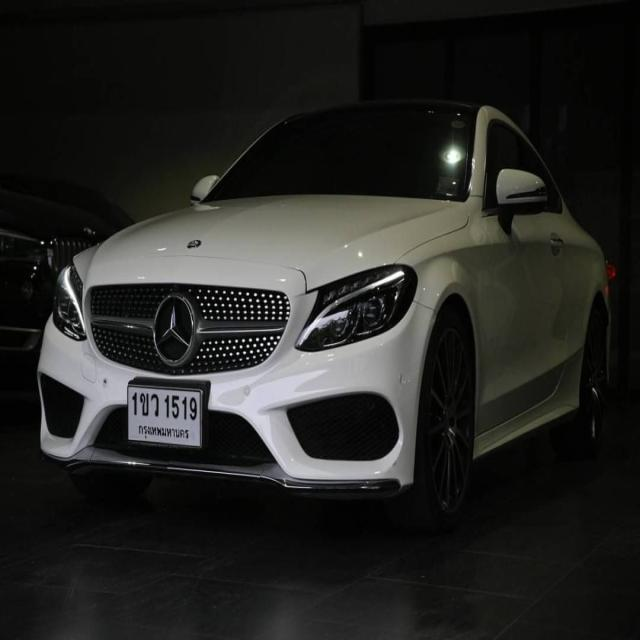license_plate: (126, 377, 203, 451)
